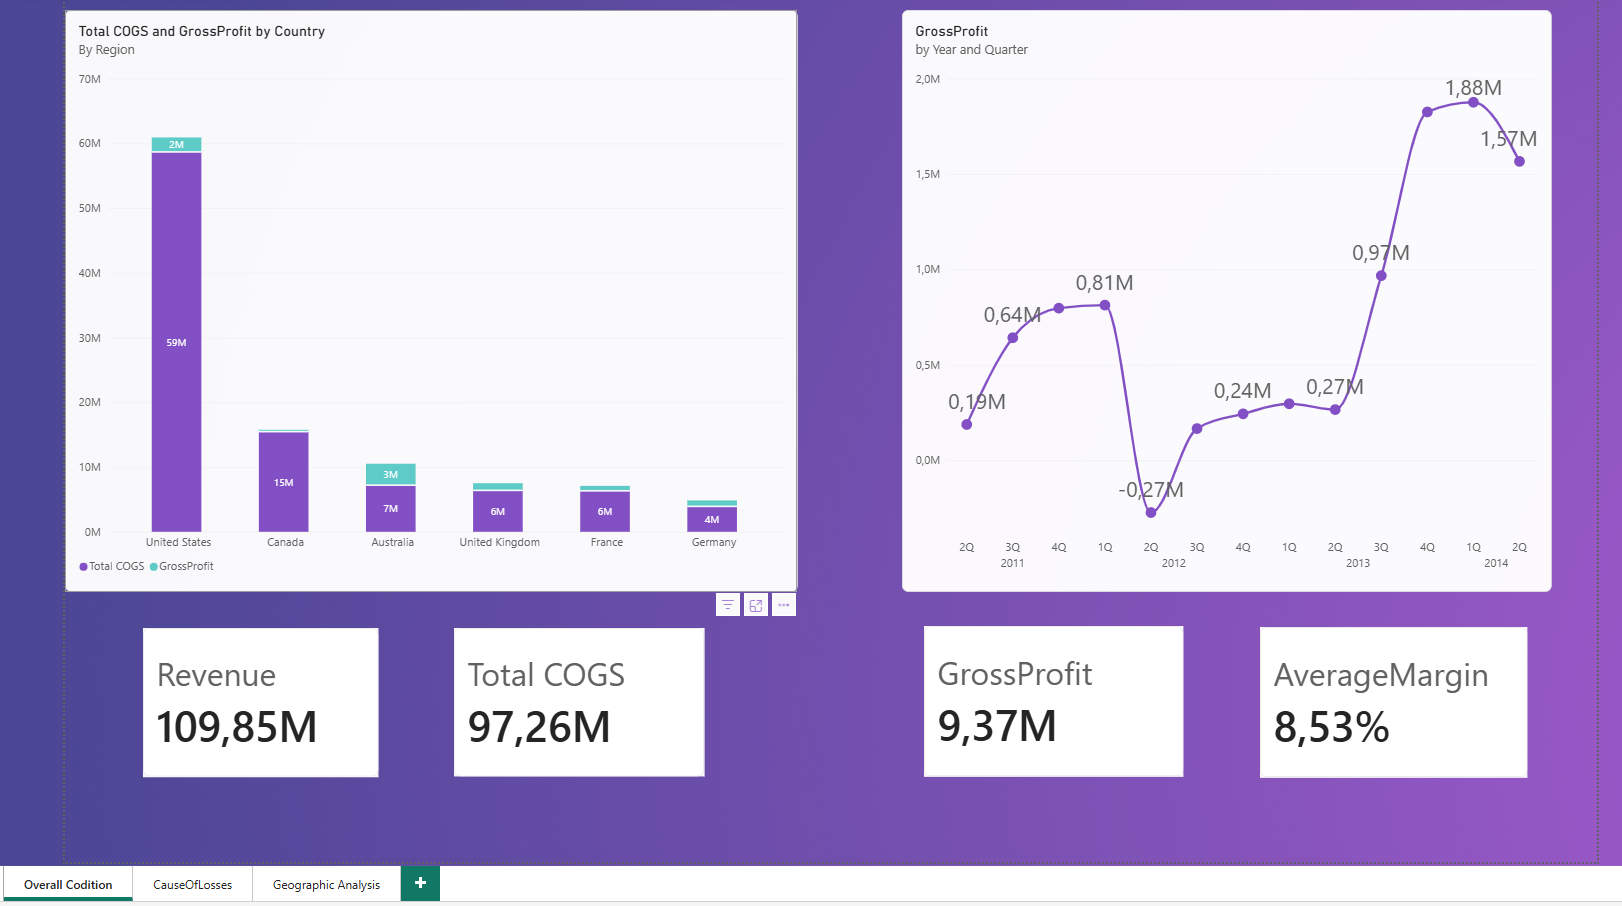

Layout of this report page (visuals, bound fields, positions):
{"tool":"powerbi","page":{"name":"Overall Codition","canvas":[1920,1080],"ordinal":0},"visuals":[{"type":"lineChart","fields":{"Category":["DateTable.Date Hierarchy.Year","DateTable.Date Hierarchy.Quarter","DateTable.Date Hierarchy.Month"],"Y":["_Measures.GrossProfit"]},"box":[1048.8,12.5,813.8,728.8],"z":0},{"type":"columnChart","fields":{"Category":["DimTerritory.Country"],"Y":["_Measures.Total COGS","_Measures.GrossProfit"]},"box":[0,12.5,917.5,728.8],"z":1000},{"type":"cardVisual","fields":{"Data":["_Measures.Revenue"]},"box":[97.5,786.2,295,186.7],"z":2000},{"type":"cardVisual","fields":{"Data":["_Measures.Total COGS"]},"box":[487.5,786.2,313.8,186.2],"z":3000},{"type":"cardVisual","fields":{"Data":["_Measures.GrossProfit"]},"box":[1076.2,783.8,325,188.8],"z":4000},{"type":"cardVisual","fields":{"Data":["_Measures.AverageMargin"]},"box":[1497.5,785,335,188.8],"z":5000}]}

Visuals, with their boxes in screenshot pixels (x1, y1, x2, y2), scaled from the page's 1920x1080 canvas onto the 1622x906 screenshot:
lineChart - DateTable.Date Hierarchy.Year x DateTable.Date Hierarchy.Quarter: select_region(886, 10, 1574, 622)
columnChart - DimTerritory.Country x _Measures.Total COGS: select_region(0, 10, 775, 622)
cardVisual - _Measures.Revenue: select_region(82, 660, 332, 816)
cardVisual - _Measures.Total COGS: select_region(412, 660, 677, 816)
cardVisual - _Measures.GrossProfit: select_region(909, 658, 1184, 816)
cardVisual - _Measures.AverageMargin: select_region(1265, 659, 1548, 817)
